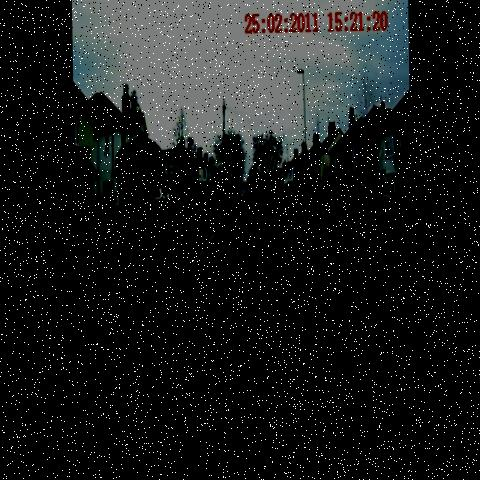pothole: (199, 270, 237, 302), (242, 246, 262, 273)
